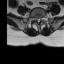CCS_normal: (37, 16, 39, 25)
LFS_normal: (40, 15, 42, 21)
LLS_normal: (39, 17, 40, 22)
RFS_stenosis: (34, 16, 36, 21)
RLS_normal: (36, 17, 38, 23)
